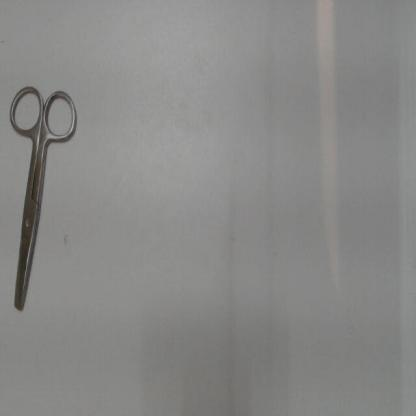Dressing Scissors: (4, 76, 87, 317)
